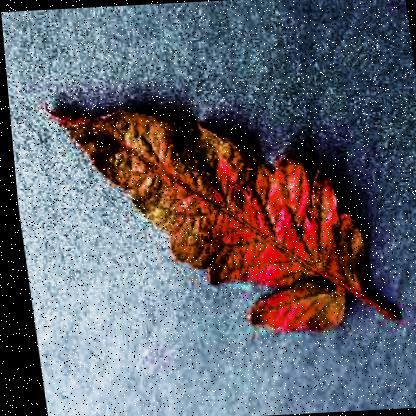Virus: (29, 64, 411, 369)
